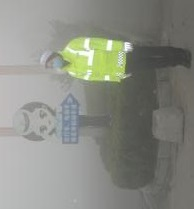person: (40, 37, 194, 85)
